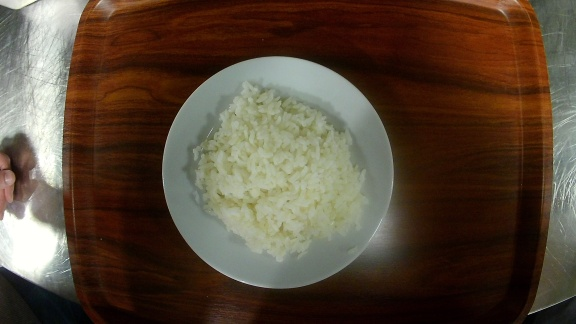pilav: (162, 57, 395, 289)
